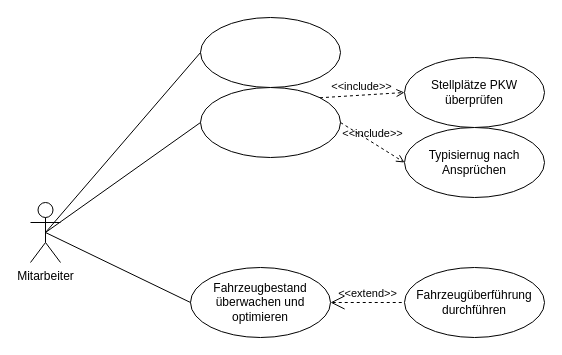
This 562x355 diagram has some shape labels left out. The shapes that lost their labels are listed below. From the top down, each one's centre as x and y in pixels, then its label:
At (x=270, y=52): "geschäftlich relevantes Umfeld festhalten".
At (x=270, y=122): "Mietstation Stammdaten einpflegen".
